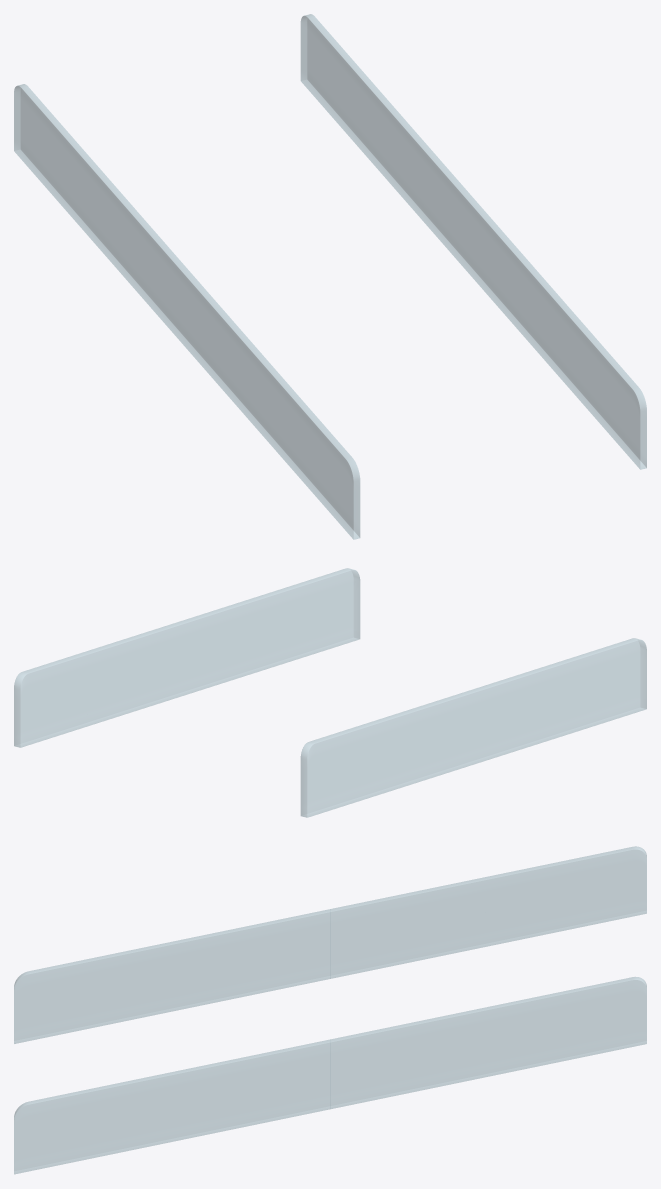
The model's file is SM_GlassWall_Ramp_Straight.fbx.
The picture shows the model from 3 angles, top to bottom: view 1: azimuth 30°, elevation 25°; view 2: azimuth 150°, elevation 25°; view 3: azimuth 270°, elevation 25°; orthographic projection. The views are drawn at different scales.
Visible parts, largest first — view 1: SM_GlassWall_Ramp_Straight; view 2: SM_GlassWall_Ramp_Straight; view 3: SM_GlassWall_Ramp_Straight.
Part boxes in pixels (x1,y1,x2,y2): SM_GlassWall_Ramp_Straight: (14, 14, 646, 539); SM_GlassWall_Ramp_Straight: (14, 568, 646, 817); SM_GlassWall_Ramp_Straight: (14, 846, 646, 1174).
Bounding box in the file's own units: 1.96 × 1.34 × 3.94.
